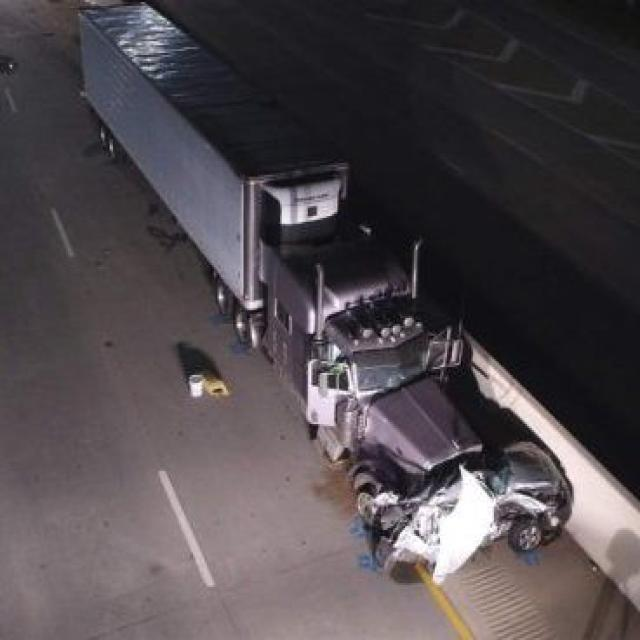traffic_incident: (261, 163, 570, 616)
